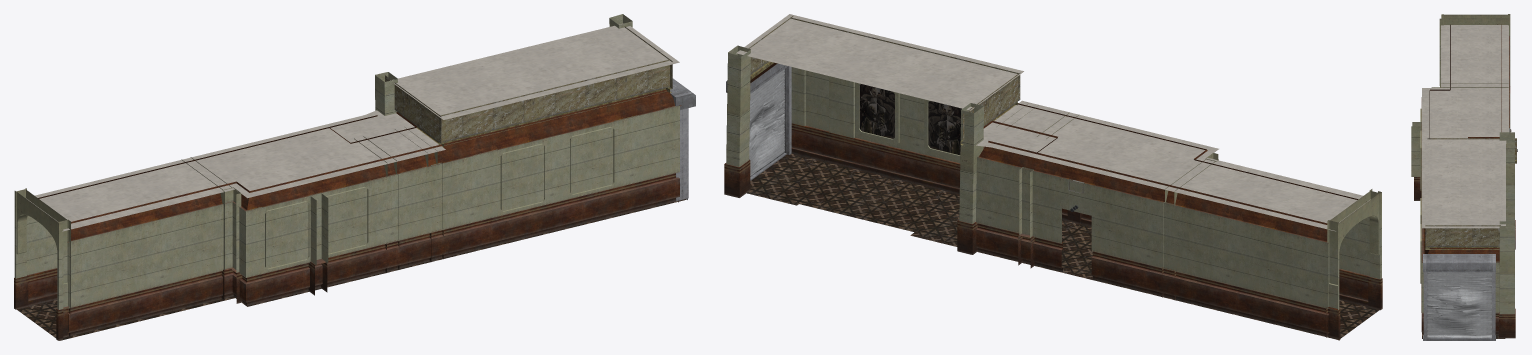
3 renders of one model, left to right at view 1: azimuth 30°, elevation 25°; view 2: azimuth 150°, elevation 25°; view 3: azimuth 270°, elevation 25°, orthographic. The views are drawn at different scales.
Visible parts, largest first — view 1: LOD_1_Group_0_Sub_4__st2_police2fLeftWall03, LOD_1_Group_0_Sub_3__st2_police2fLeftWall08, LOD_1_Group_0_Sub_1__st2_police2fLeftCeiling01, LOD_1_Group_0_Sub_5__st2_police1fLeftWall04, LOD_1_Group_0_Sub_6__st2_police2fLeftFloor01, LOD_1_Group_0_Sub_2__st2_Police1fRightShutter01; view 2: LOD_1_Group_0_Sub_4__st2_police2fLeftWall03, LOD_1_Group_0_Sub_1__st2_police2fLeftCeiling01, LOD_1_Group_0_Sub_3__st2_police2fLeftWall08, LOD_1_Group_0_Sub_6__st2_police2fLeftFloor01, LOD_1_Group_0_Sub_2__st2_Police1fRightShutter01, LOD_1_Group_0_Sub_10__sm32_019_PictureFrame02B_D_Mat, LOD_1_Group_0_Sub_5__st2_police1fLeftWall04; view 3: LOD_1_Group_0_Sub_1__st2_police2fLeftCeiling01, LOD_1_Group_0_Sub_2__st2_Police1fRightShutter01, LOD_1_Group_0_Sub_4__st2_police2fLeftWall03, LOD_1_Group_0_Sub_3__st2_police2fLeftWall08, LOD_1_Group_0_Sub_5__st2_police1fLeftWall04.
Part boxes in pixels (x1=…): LOD_1_Group_0_Sub_4__st2_police2fLeftWall03: x1=14, y1=14, x2=679, y2=309; LOD_1_Group_0_Sub_3__st2_police2fLeftWall08: x1=14, y1=89, x2=681, y2=340; LOD_1_Group_0_Sub_1__st2_police2fLeftCeiling01: x1=26, y1=23, x2=679, y2=231; LOD_1_Group_0_Sub_5__st2_police1fLeftWall04: x1=385, y1=26, x2=672, y2=147; LOD_1_Group_0_Sub_6__st2_police2fLeftFloor01: x1=17, y1=199, x2=686, y2=340; LOD_1_Group_0_Sub_2__st2_Police1fRightShutter01: x1=670, y1=78, x2=695, y2=202; LOD_1_Group_0_Sub_4__st2_police2fLeftWall03: x1=726, y1=45, x2=1381, y2=309; LOD_1_Group_0_Sub_1__st2_police2fLeftCeiling01: x1=736, y1=14, x2=1370, y2=231; LOD_1_Group_0_Sub_3__st2_police2fLeftWall08: x1=724, y1=63, x2=1382, y2=340; LOD_1_Group_0_Sub_6__st2_police2fLeftFloor01: x1=747, y1=153, x2=1379, y2=339; LOD_1_Group_0_Sub_2__st2_Police1fRightShutter01: x1=726, y1=63, x2=791, y2=180; LOD_1_Group_0_Sub_10__sm32_019_PictureFrame02B_D_Mat: x1=859, y1=84, x2=961, y2=155; LOD_1_Group_0_Sub_5__st2_police1fLeftWall04: x1=744, y1=16, x2=1020, y2=145; LOD_1_Group_0_Sub_1__st2_police2fLeftCeiling01: x1=1422, y1=25, x2=1508, y2=228; LOD_1_Group_0_Sub_2__st2_Police1fRightShutter01: x1=1423, y1=254, x2=1495, y2=340; LOD_1_Group_0_Sub_4__st2_police2fLeftWall03: x1=1411, y1=14, x2=1514, y2=314; LOD_1_Group_0_Sub_3__st2_police2fLeftWall08: x1=1414, y1=24, x2=1515, y2=338; LOD_1_Group_0_Sub_5__st2_police1fLeftWall04: x1=1425, y1=138, x2=1516, y2=249.
Size of the model in its own units: 21.7 by 4.8 by 4.11.
